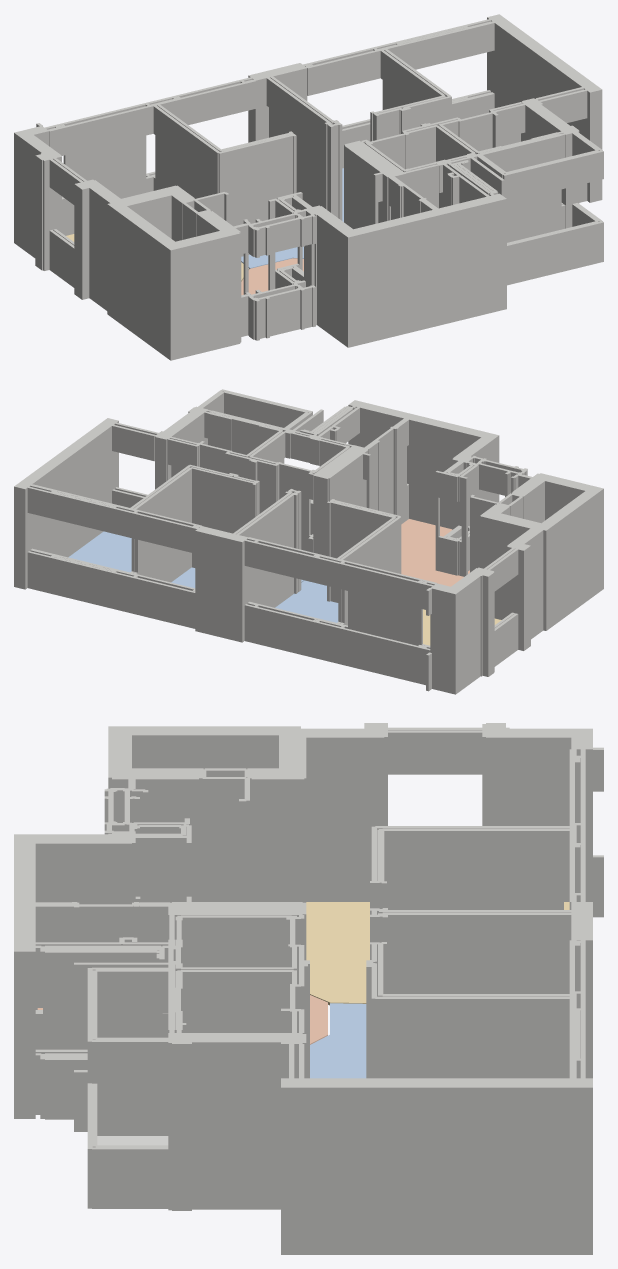
3 renders of one model, top to bottom at view 1: azimuth 30°, elevation 25°; view 2: azimuth 150°, elevation 25°; view 3: azimuth 270°, elevation 25°, orthographic. The views are drawn at different scales.
Visible parts, largest first — view 1: walls, room:kitchen:3, room:bedroom:1; view 2: walls, room:kitchen:3, room:bedroom:4, room:bedroom:1; view 3: walls, room:living:0, room:bedroom:1, room:kitchen:3, room:ledge:8.
Boxes of the visible parts, x1=… form: walls: x1=14, y1=14, x2=603, y2=360; room:kitchen:3: x1=241, y1=258, x2=303, y2=295; room:bedroom:1: x1=241, y1=246, x2=303, y2=269; walls: x1=14, y1=389, x2=603, y2=694; room:kitchen:3: x1=401, y1=519, x2=469, y2=586; room:bedroom:4: x1=68, y1=531, x2=131, y2=572; room:bedroom:1: x1=275, y1=580, x2=338, y2=622; walls: x1=14, y1=723, x2=603, y2=1254; room:living:0: x1=306, y1=902, x2=569, y2=1005; room:bedroom:1: x1=310, y1=1003, x2=366, y2=1078; room:kitchen:3: x1=37, y1=995, x2=327, y2=1044; room:ledge:8: x1=97, y1=1136, x2=168, y2=1145.
Size of the model in its own units: 13.09 by 2.8 by 8.95.
